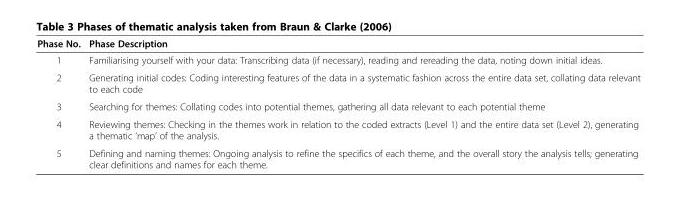table: (36, 37, 639, 169)
table column: (84, 37, 639, 169), (36, 37, 84, 169)
table column header: (36, 37, 639, 51)
table row: (36, 68, 639, 97), (36, 115, 639, 144), (36, 144, 639, 169), (36, 97, 639, 115), (36, 51, 639, 68), (36, 37, 639, 51)
